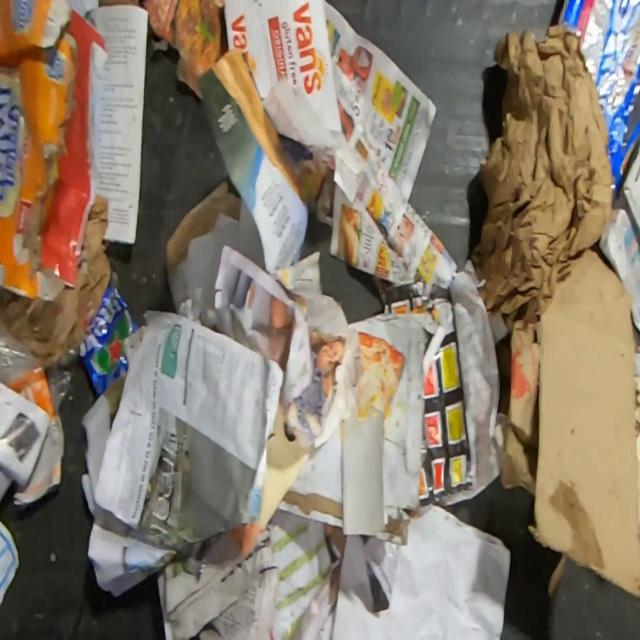cardboard: (528, 238, 639, 598), (0, 0, 110, 303), (498, 318, 540, 498), (166, 181, 242, 272), (549, 554, 571, 594), (635, 373, 640, 498)
metal: (79, 287, 139, 398)
soft_plastic: (555, 0, 640, 207), (43, 340, 80, 416), (0, 318, 36, 387)
